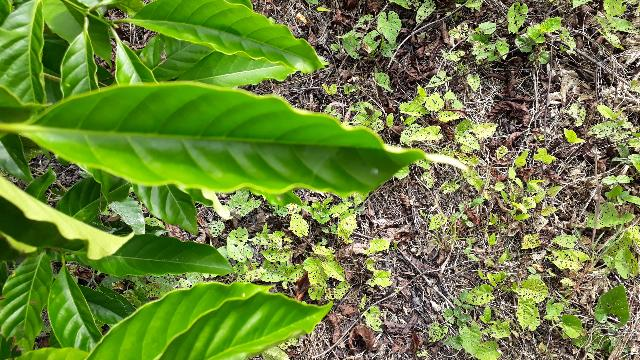healthy: (6, 79, 474, 199)
